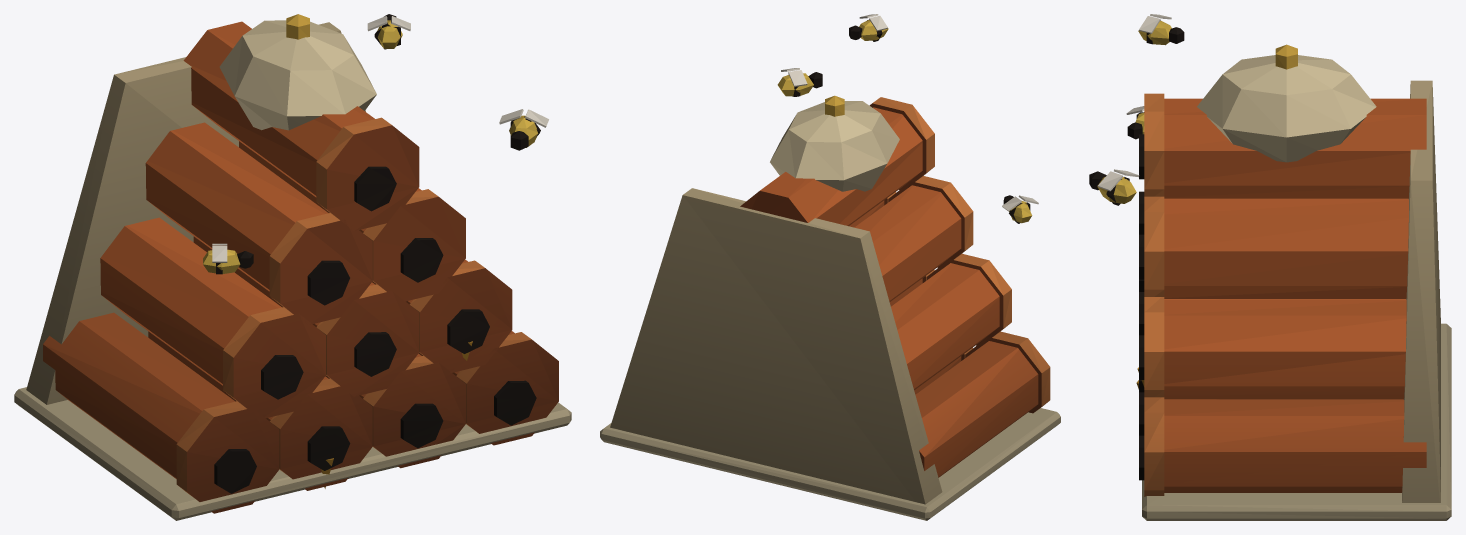
File: great_clay_hive.glb
3 renders of one model, left to right at view 1: azimuth 30°, elevation 25°; view 2: azimuth 150°, elevation 25°; view 3: azimuth 270°, elevation 25°, orthographic. The views are drawn at different scales.
Visible parts, largest first — view 1: great_clay_hive; view 2: great_clay_hive; view 3: great_clay_hive.
Boxes of the visible parts, x1,y1,x2,y2 form: great_clay_hive: (14, 14, 571, 520); great_clay_hive: (600, 14, 1060, 520); great_clay_hive: (1089, 14, 1451, 520).
Size of the model in its own units: 0.88 by 0.9467 by 0.7252.
